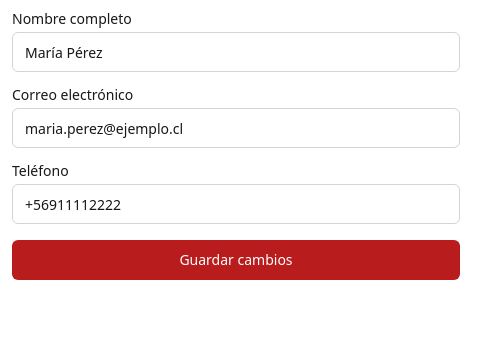
Test: Formulario de edición (FR-010, api CHK031) › muestra un 409 de autoprotección como aviso sobre el formulario
This screenshot has width=477, height=351.
Click the button "Guardar cambios" at (236, 260), box [12,240,460,280]
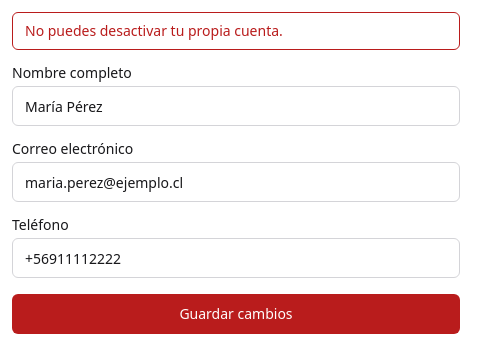
Now the message reads "No puedes desactivar tu propia cuenta.", box [25,21,283,40]
